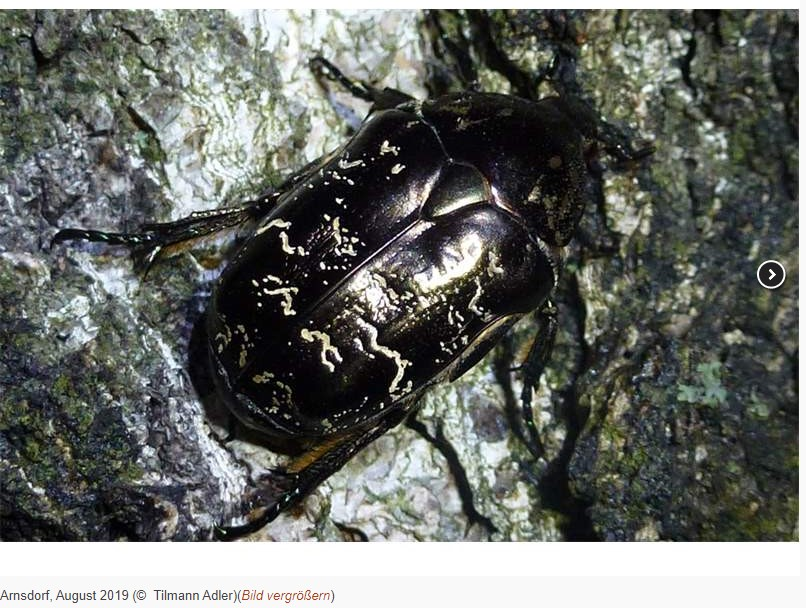Protaetia_lugubris: (31, 50, 657, 537)
